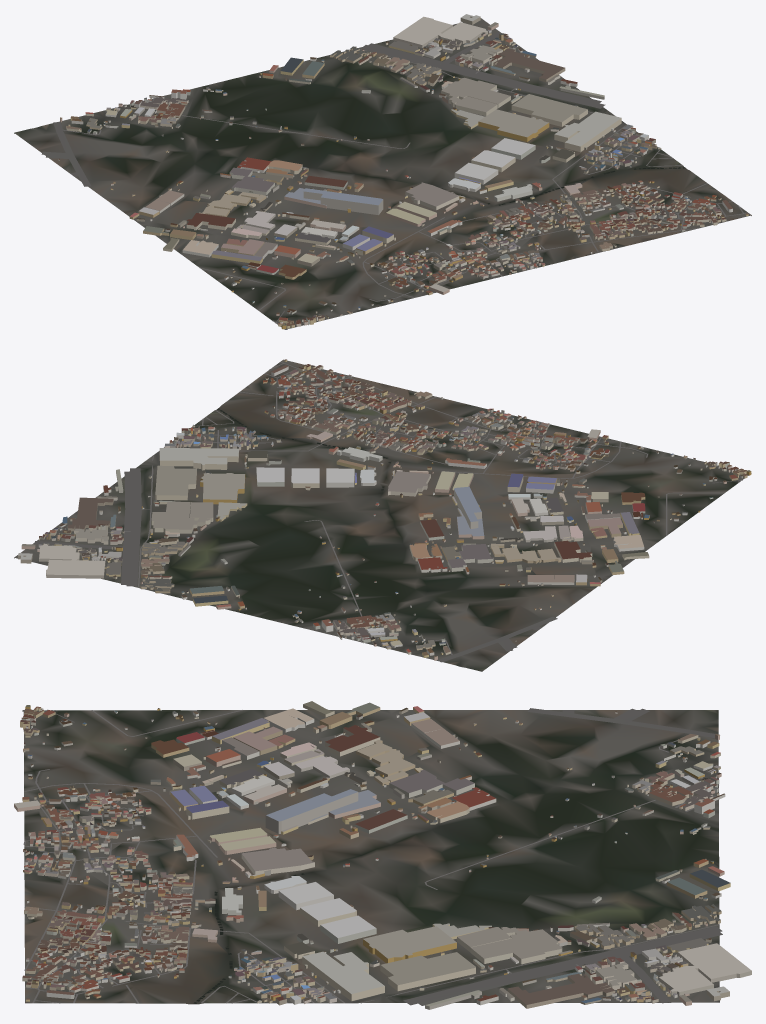
The picture shows the model from 3 angles, top to bottom: view 1: azimuth 30°, elevation 25°; view 2: azimuth 150°, elevation 25°; view 3: azimuth 270°, elevation 25°; orthographic projection. The views are drawn at different scales.
Visible parts, largest first — view 1: ground, buildings, roads; view 2: ground, buildings, roads; view 3: ground, buildings, roads.
Part boxes in pixels (x1,y1,x2,y2): ground: (14,18,751,328); buildings: (58,14,748,329); roads: (41,32,748,329); ground: (14,359,748,671); buildings: (18,359,751,660); roads: (34,361,751,662); ground: (23,710,719,1004); buildings: (14,701,751,1009); roads: (22,708,722,1005).
Size of the model in its own units: 1460 by 33.27 by 1489.
